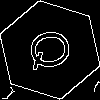Q: (24, 25, 82, 73)
